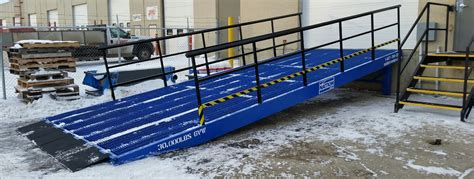Yard Ramp: (19, 47, 400, 170)
